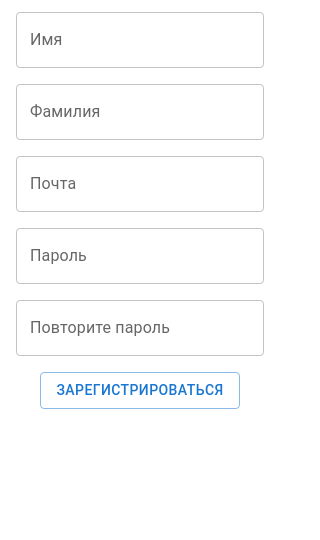
Test: RegisterForm › показывает ошибки валидации при отправке с пустыми полями
Click the button "Зарегистрироваться": (140, 390) [40, 372, 240, 408]
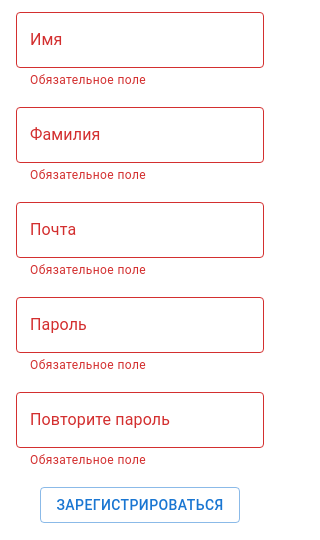
Result: the text "Обязательное поле" is shown 5 times at [30, 73, 146, 87]; [30, 168, 146, 182]; [30, 263, 146, 277]; [30, 358, 146, 372]; [30, 453, 146, 467]
